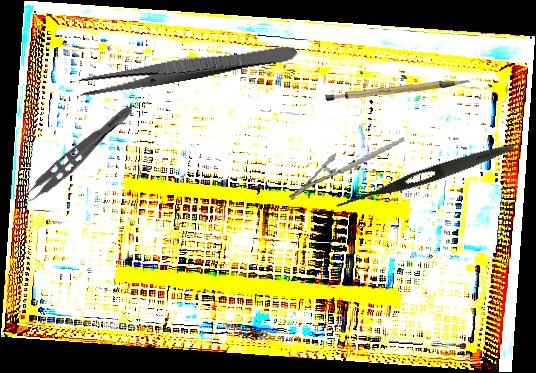Dressing Forceps: (332, 138, 517, 216), (76, 38, 299, 100)
Needle Holder: (283, 136, 411, 202)
Scalpel Handle: (324, 74, 473, 108)
Tissue Forceps: (11, 93, 138, 214)
